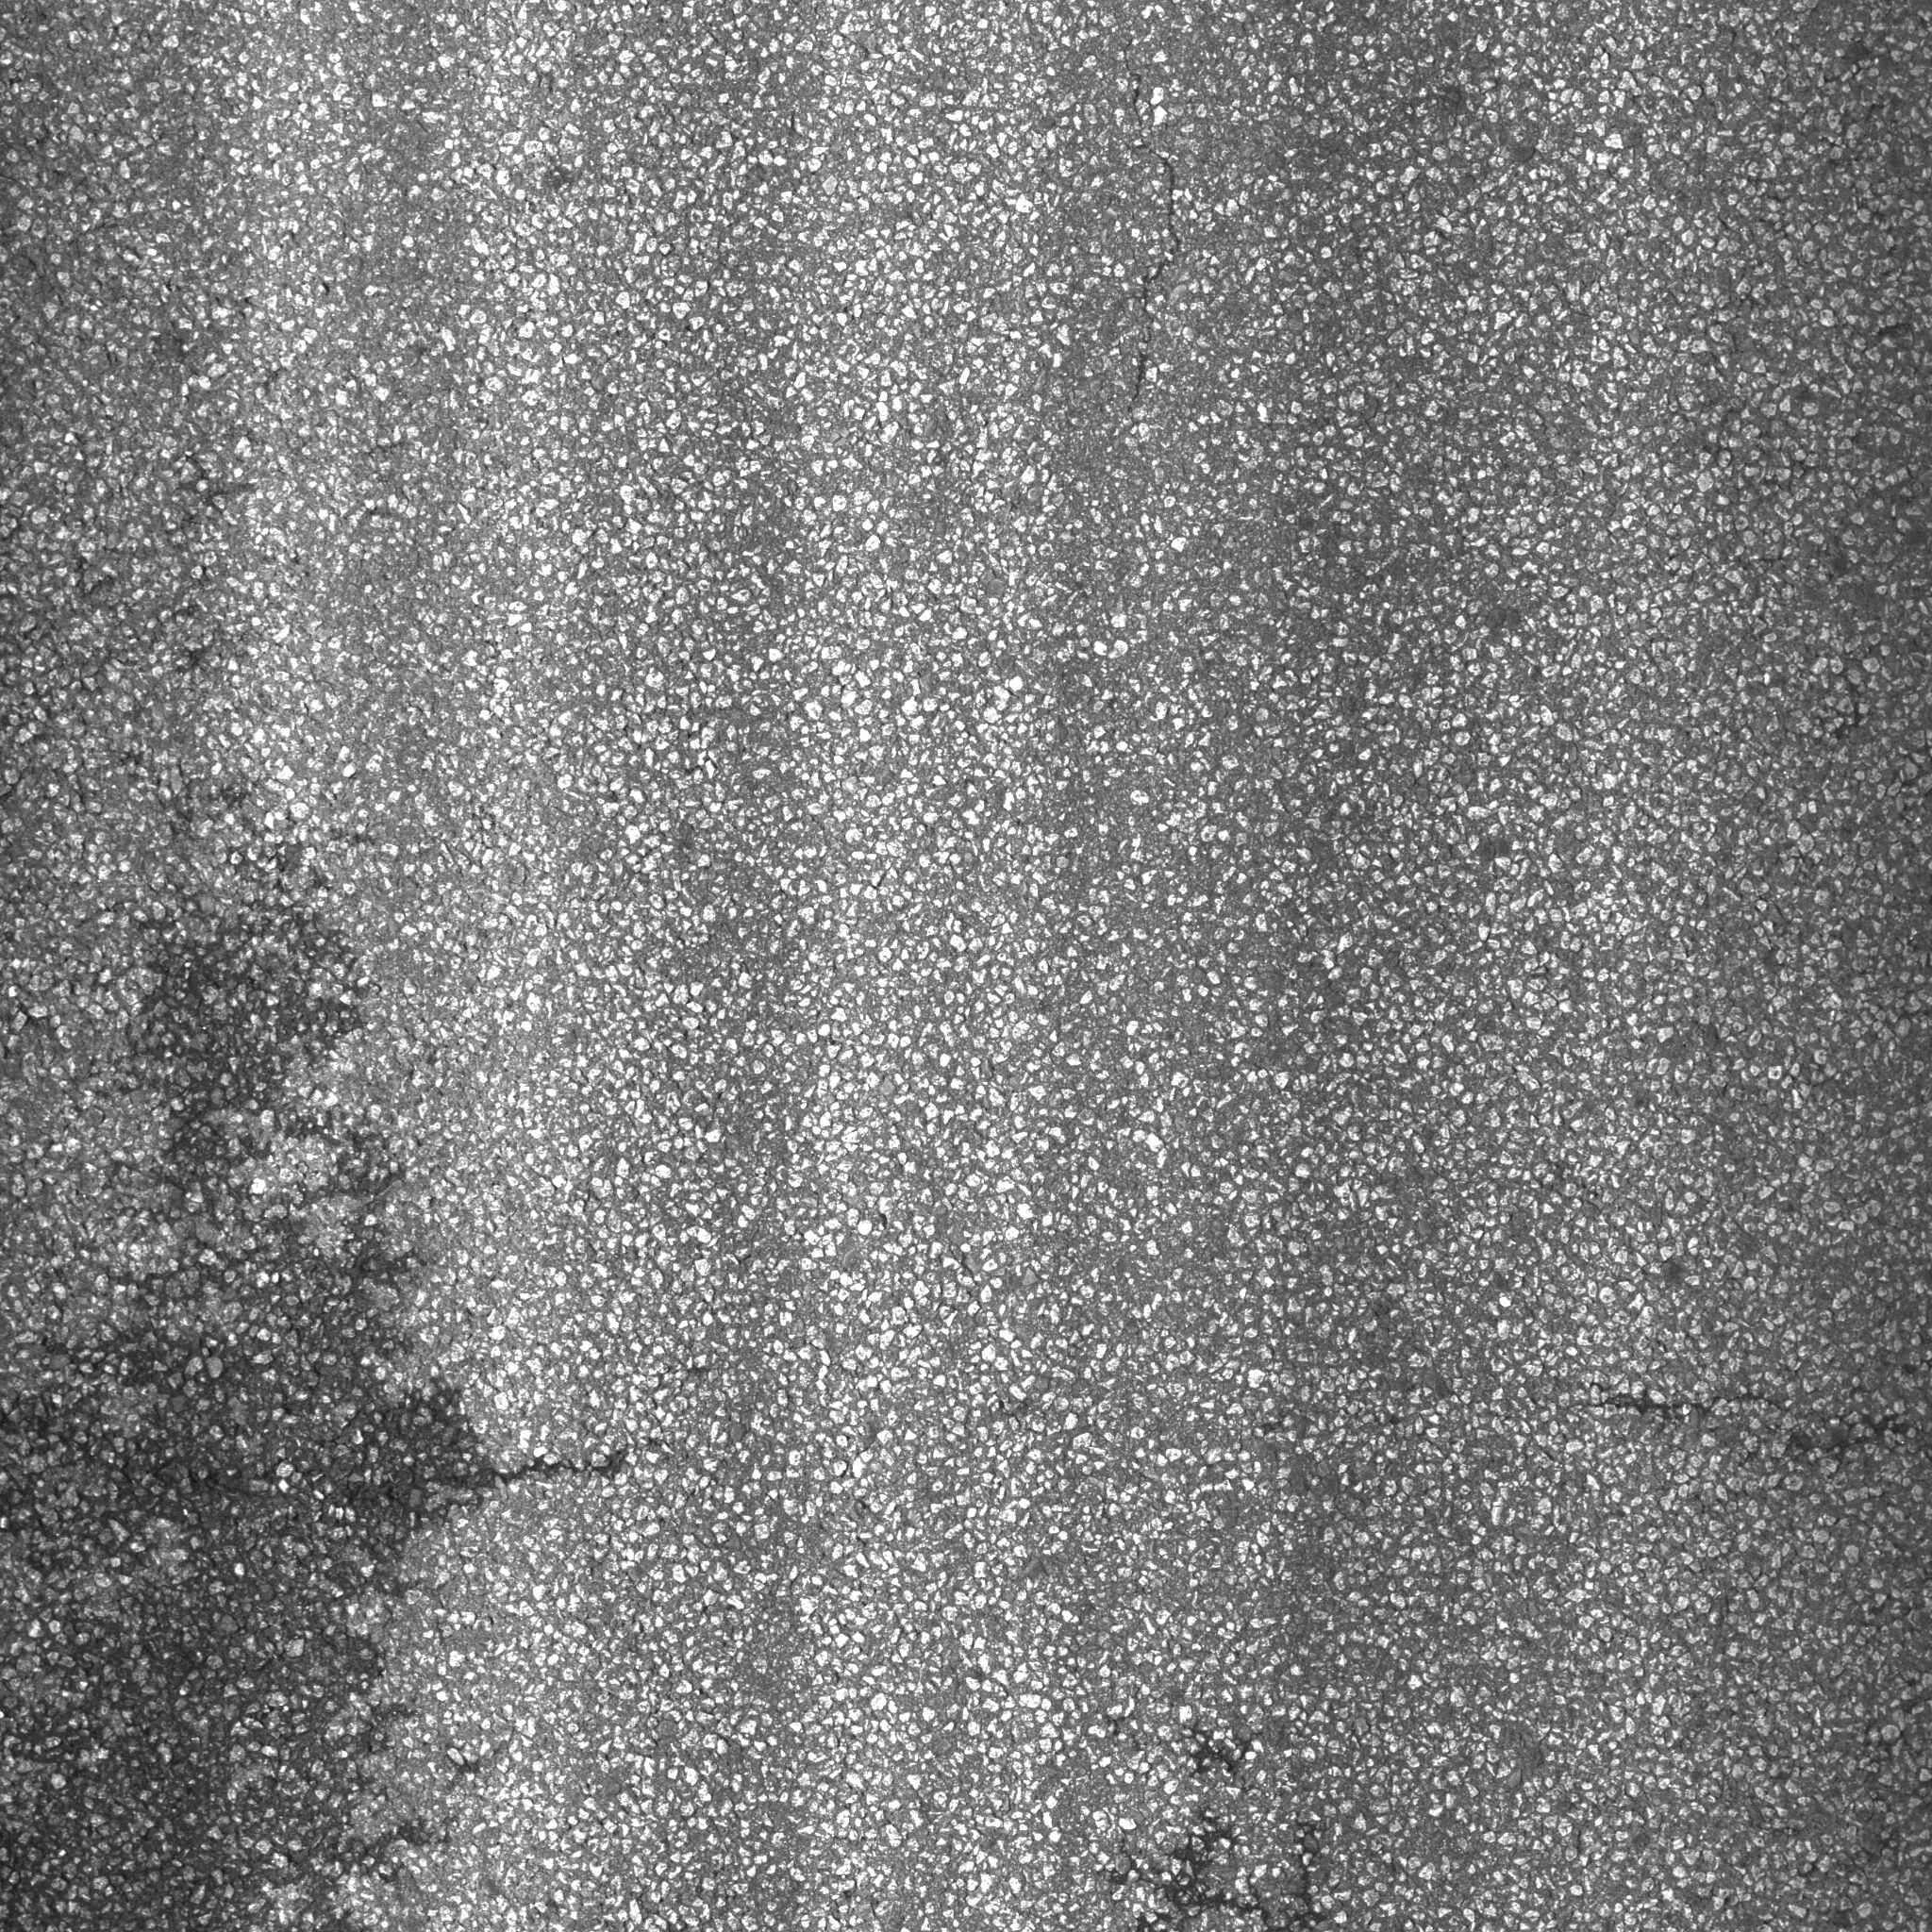transeverse: (58, 1401, 690, 1522), (1562, 1346, 1932, 1476), (1085, 65, 1208, 432)
